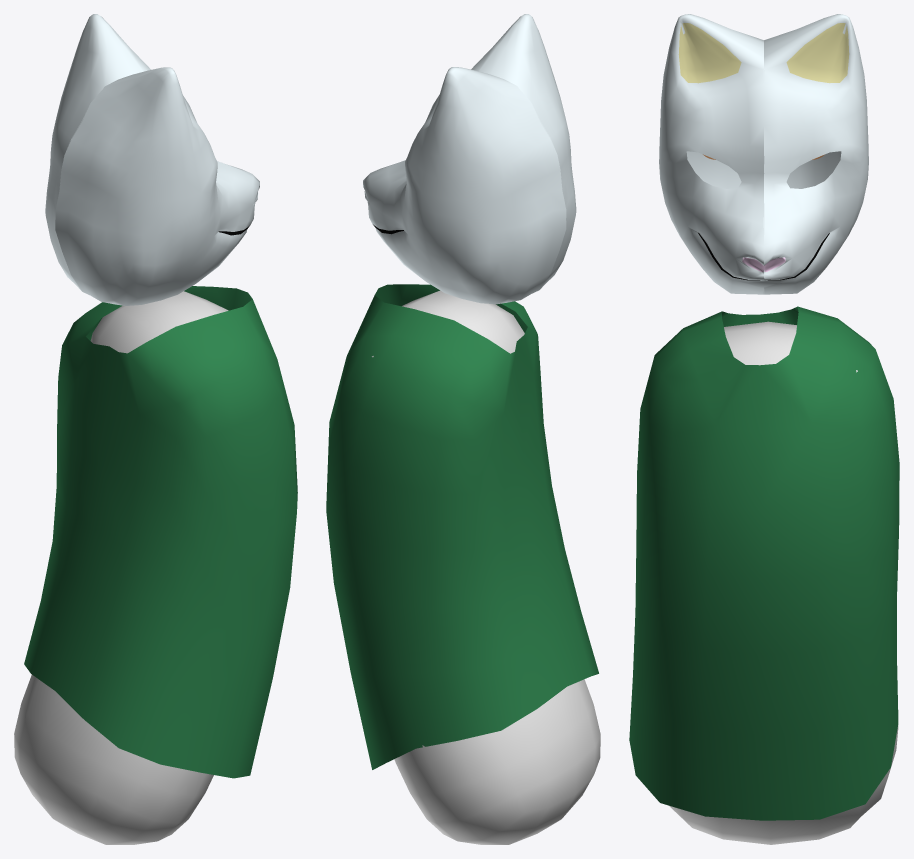
The model's file is NPC 1.fbx.
3 renders of one model, left to right at view 1: azimuth 30°, elevation 25°; view 2: azimuth 150°, elevation 25°; view 3: azimuth 270°, elevation 25°, orthographic. The views are drawn at different scales.
Visible parts, largest first — view 1: T-shirt.003, Mask.001, body.003; view 2: T-shirt.003, Mask.001, body.003; view 3: T-shirt.003, Mask.001, body.003.
Boxes of the visible parts, left/top/right/bottom form: T-shirt.003: left=24, top=286, right=297, bottom=778; Mask.001: left=45, top=14, right=259, bottom=305; body.003: left=14, top=291, right=228, bottom=844; T-shirt.003: left=326, top=284, right=598, bottom=769; Mask.001: left=363, top=14, right=576, bottom=304; body.003: left=372, top=290, right=600, bottom=844; T-shirt.003: left=629, top=306, right=899, bottom=820; Mask.001: left=659, top=14, right=868, bottom=294; body.003: left=669, top=321, right=898, bottom=844.
Bounding box in the file's own units: 2.26 × 7.21 × 2.12.
